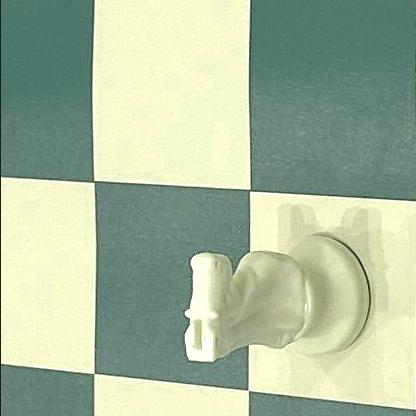white-knight: (182, 231, 374, 365)
